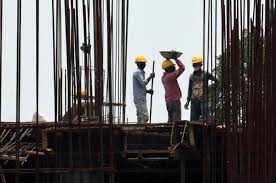arm: (133, 69, 155, 87), (183, 71, 192, 108), (172, 58, 185, 77)
face: (191, 60, 202, 71), (137, 59, 147, 68)
glove: (182, 98, 190, 109), (147, 70, 155, 78)
helmet: (189, 52, 204, 68), (132, 51, 147, 66), (160, 56, 175, 69)
human: (183, 51, 214, 115), (128, 50, 155, 123), (157, 53, 185, 123)
leg: (134, 95, 149, 122), (164, 99, 173, 122)
novest: (160, 68, 181, 100), (160, 69, 180, 100), (188, 69, 208, 99), (132, 67, 149, 97)
